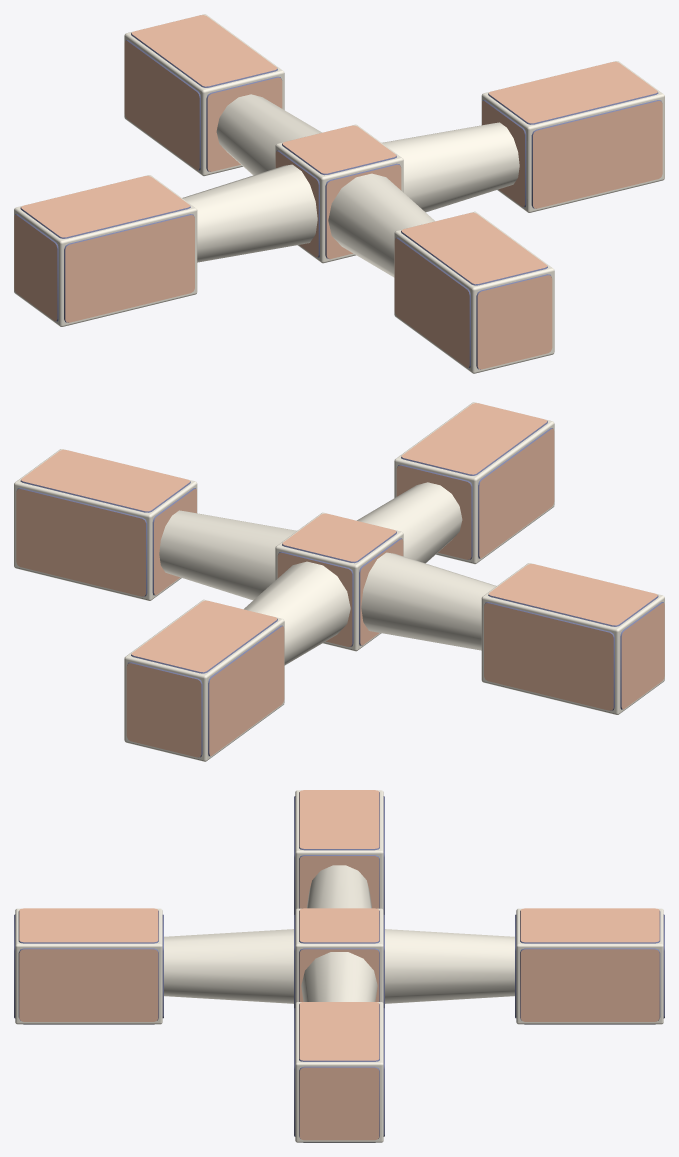
File: R4C_ROD_PLUS.fbx
3 renders of one model, top to bottom at view 1: azimuth 30°, elevation 25°; view 2: azimuth 150°, elevation 25°; view 3: azimuth 270°, elevation 25°, orthographic. The views are drawn at different scales.
Parts seen in each view (by area): view 1: R4C_ROD_PLUS; view 2: R4C_ROD_PLUS; view 3: R4C_ROD_PLUS.
Boxes of the visible parts, bbox=[...] form: R4C_ROD_PLUS: bbox=[14, 14, 664, 373]; R4C_ROD_PLUS: bbox=[14, 402, 664, 761]; R4C_ROD_PLUS: bbox=[14, 790, 664, 1142].
Bounding box in the file's own units: 1.62 × 0.226 × 1.62.
